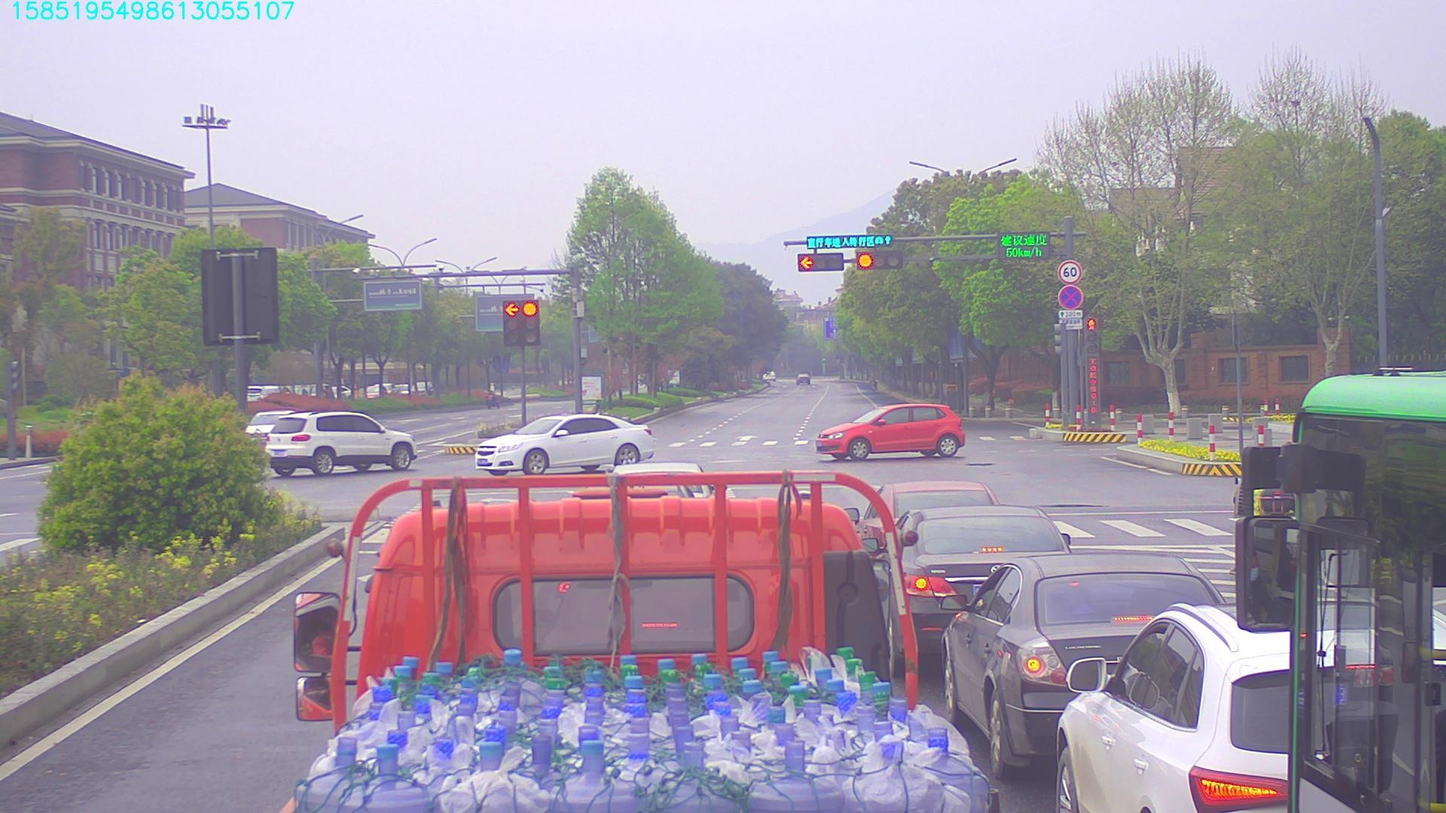red: (786, 253, 839, 269), (855, 251, 900, 268)
wait_on: (804, 235, 890, 247)
